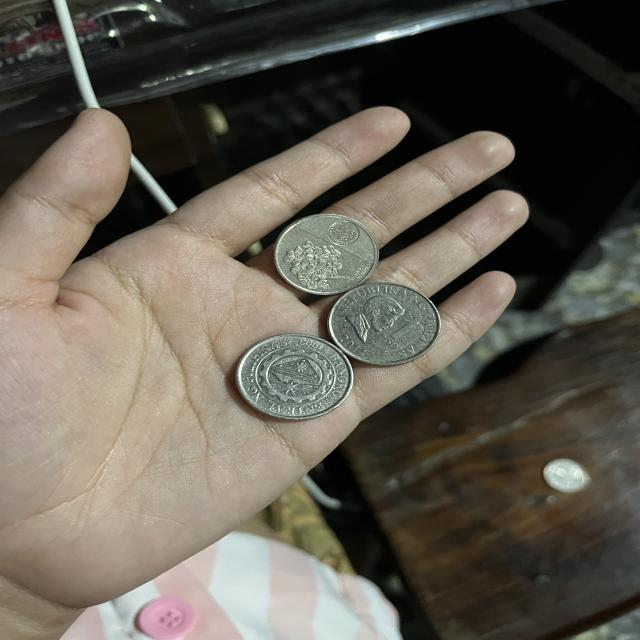1_New_Back: (282, 238, 353, 295)
1_Old_Back: (239, 335, 353, 424)
1_Old_Front: (373, 307, 432, 350)
